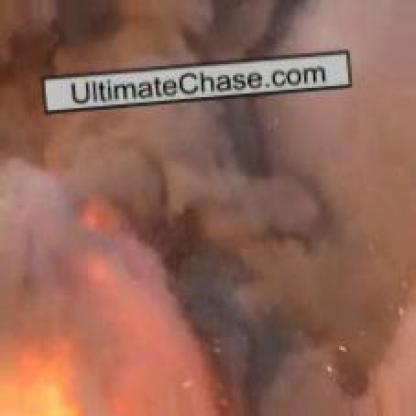smoke: (32, 116, 402, 401)
